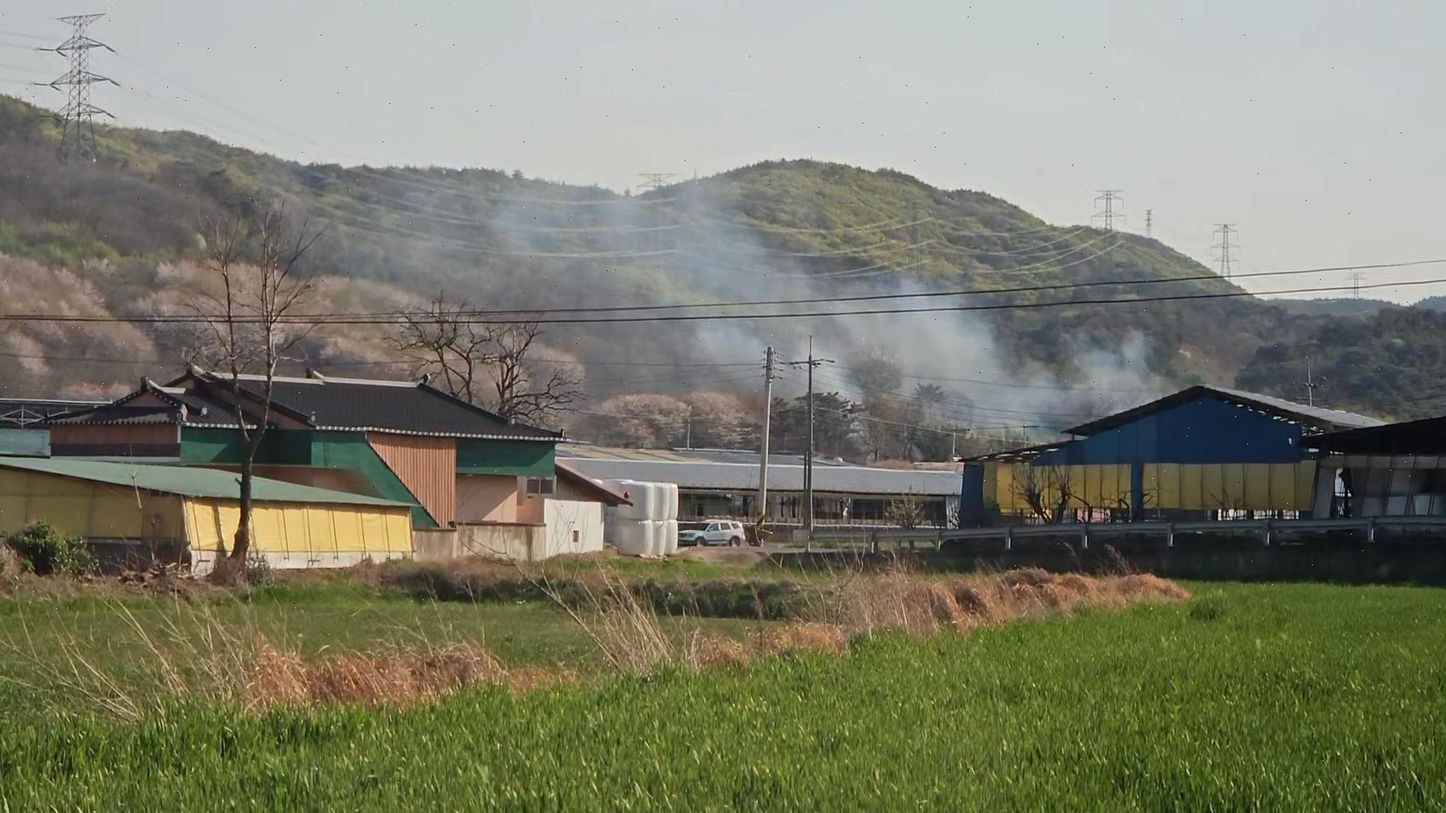smoke: (542, 170, 1155, 437)
